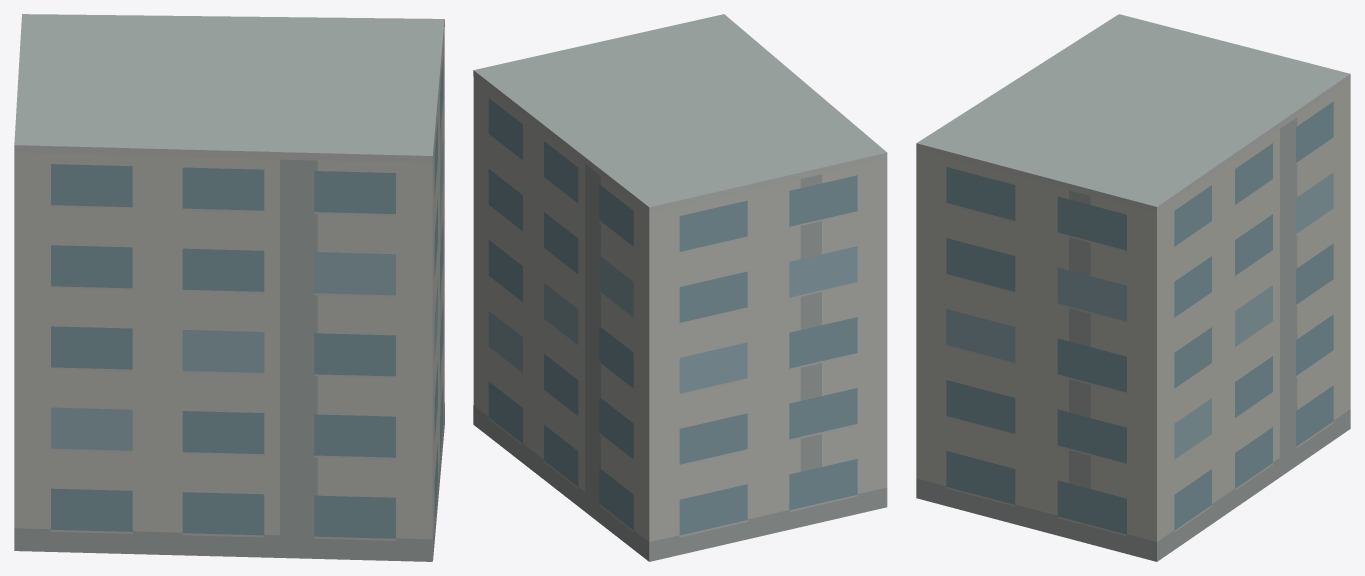
File: survey-upis-32892418.glb
3 renders of one model, left to right at view 1: azimuth 30°, elevation 25°; view 2: azimuth 150°, elevation 25°; view 3: azimuth 270°, elevation 25°, orthographic. The views are drawn at different scales.
Visible parts, largest first — view 1: survey-upis-32892418.tmp; view 2: survey-upis-32892418.tmp; view 3: survey-upis-32892418.tmp.
Boxes of the visible parts, box(x1,y1,x2,y2) form: survey-upis-32892418.tmp: box(14, 14, 444, 561); survey-upis-32892418.tmp: box(473, 14, 887, 561); survey-upis-32892418.tmp: box(916, 14, 1350, 561).
Size of the model in its own units: 15.4 by 13.2 by 14.64.
